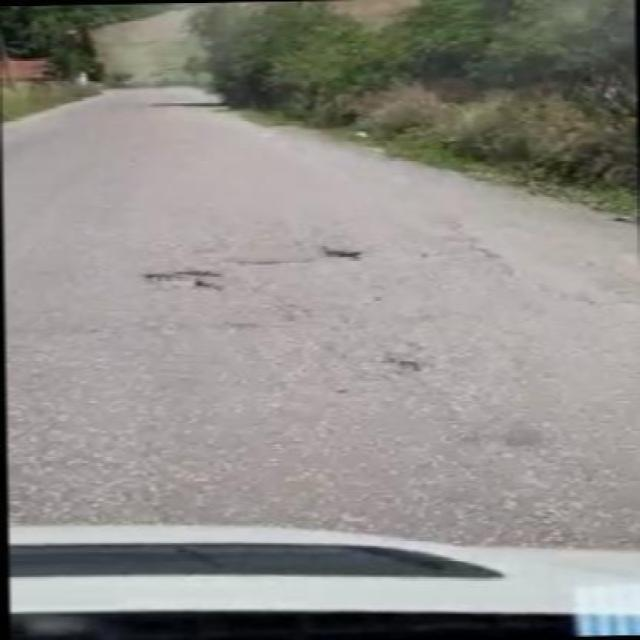Pothole: (142, 268, 233, 291), (322, 243, 375, 264)
